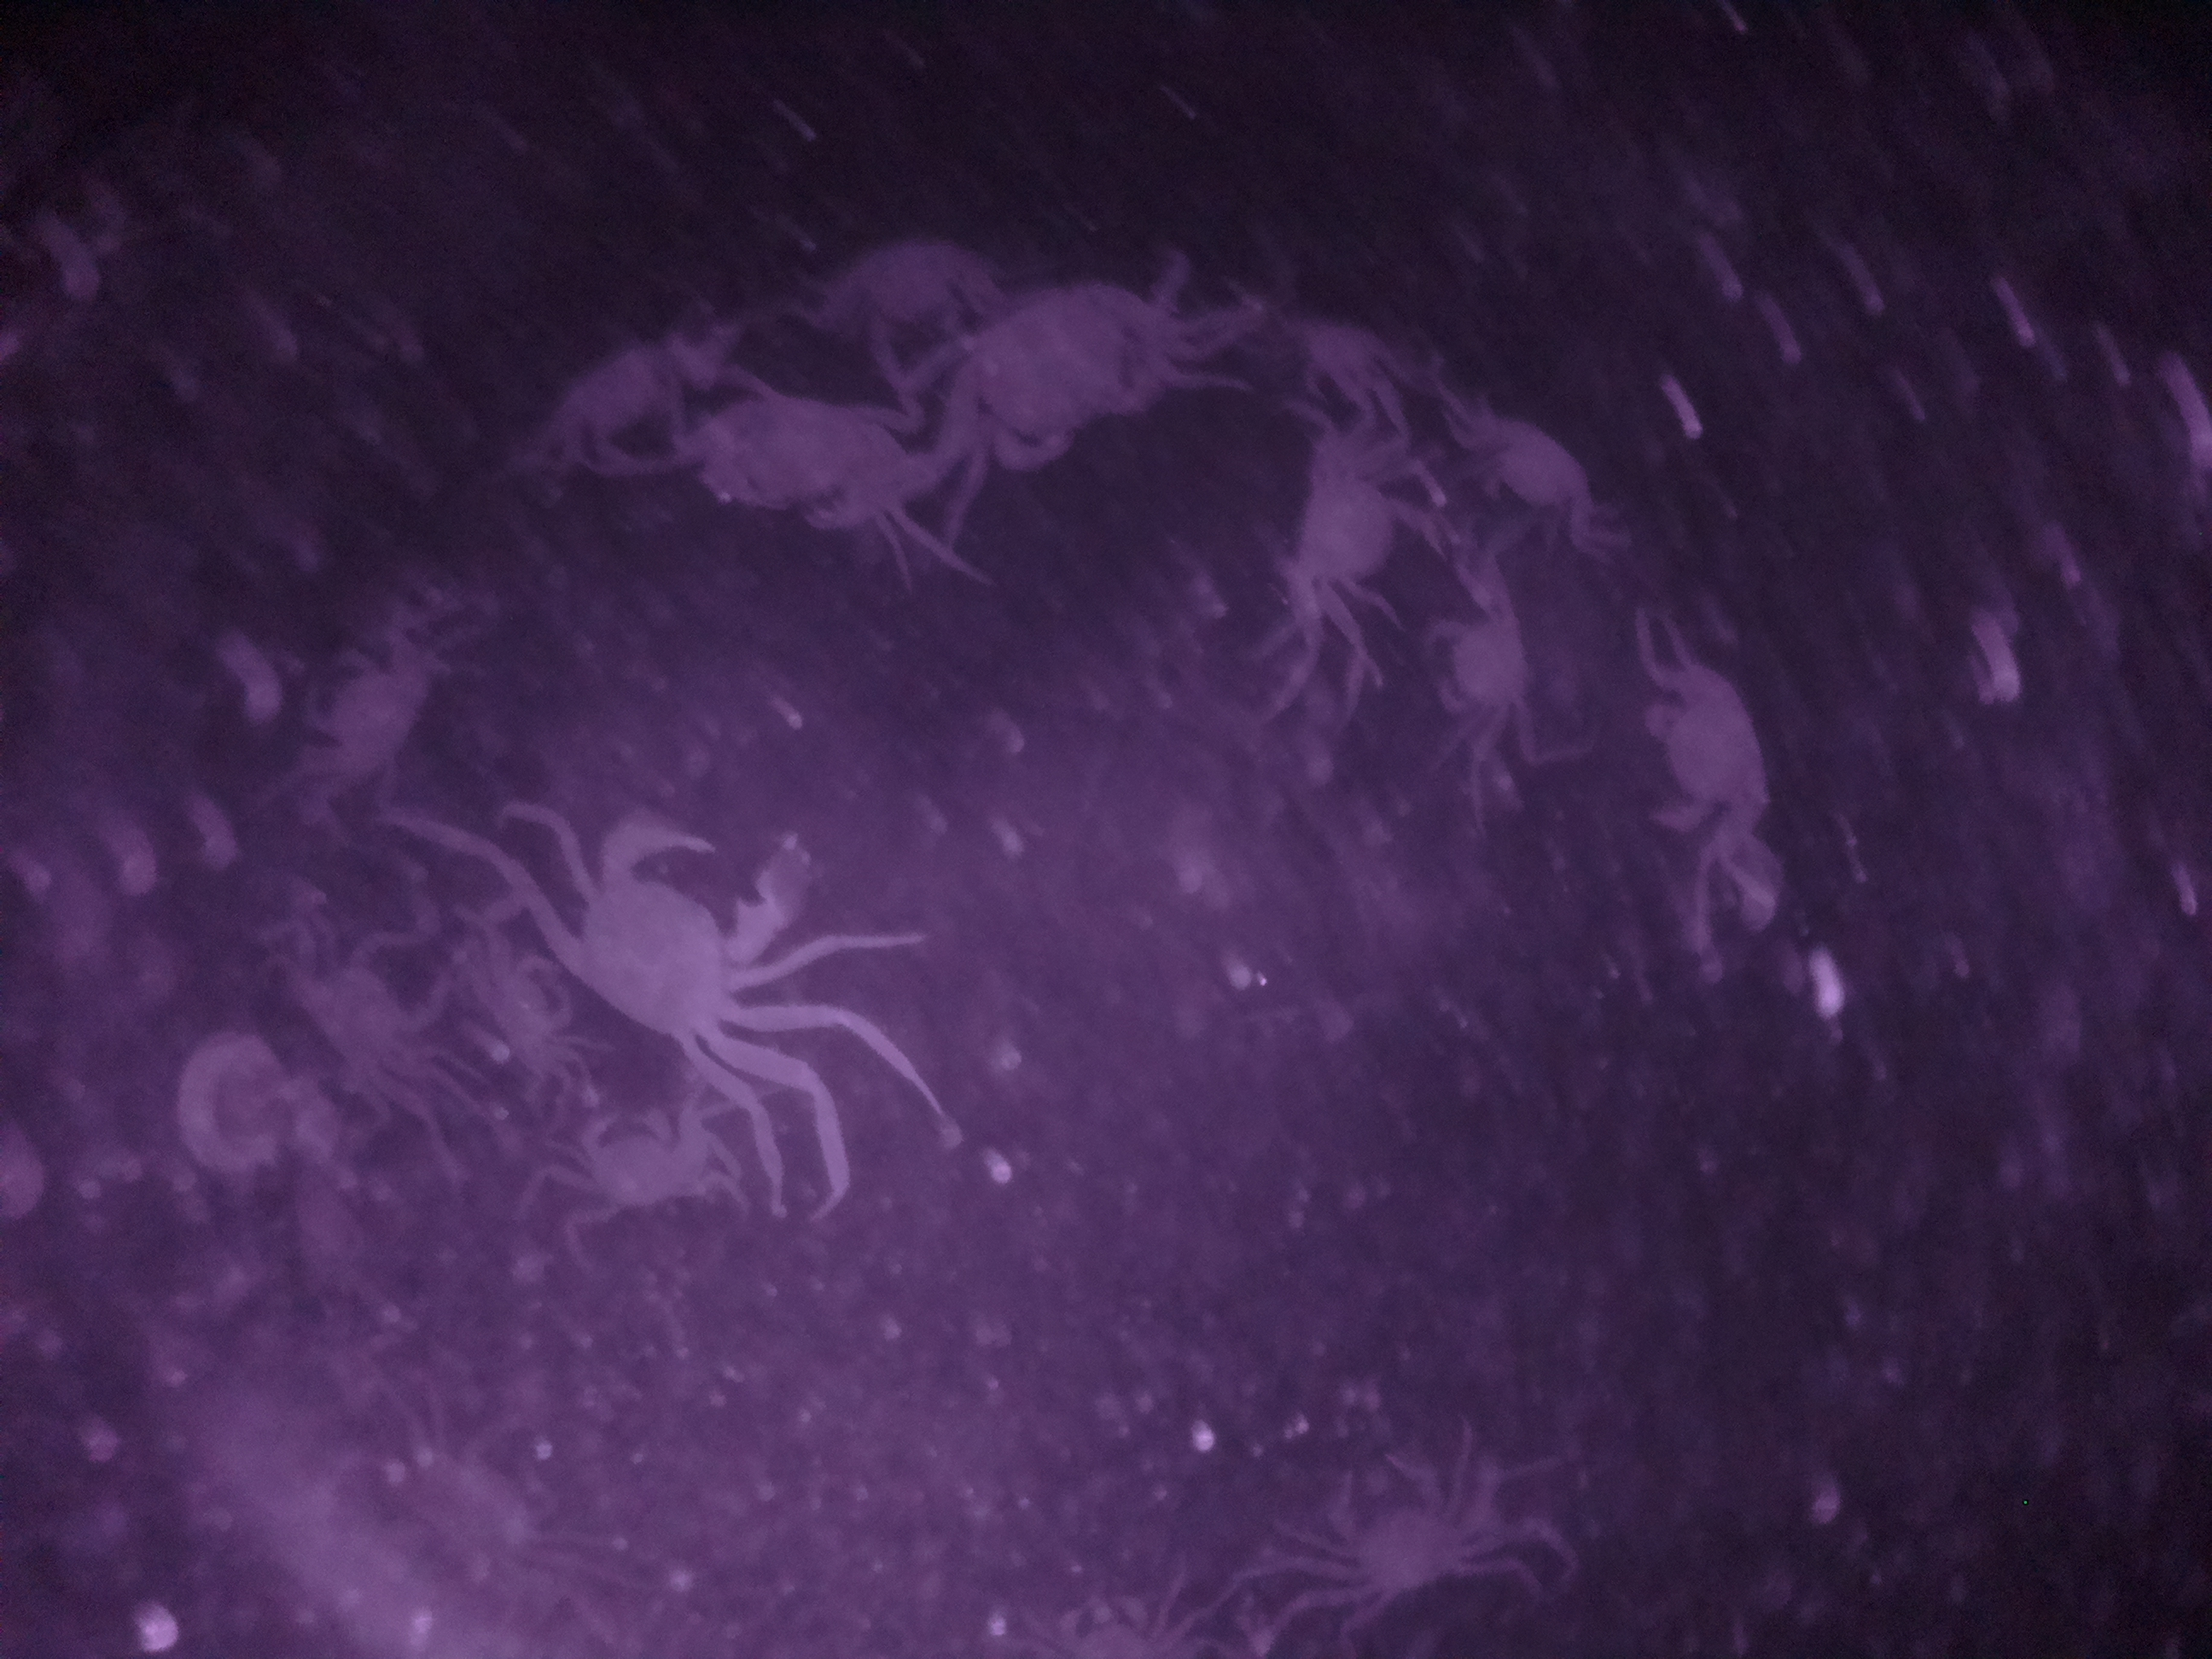Crab: (920, 256, 1186, 486), (1629, 633, 1806, 882), (1292, 1453, 1515, 1621), (1273, 413, 1437, 636), (1420, 570, 1540, 741), (566, 1089, 716, 1223)
